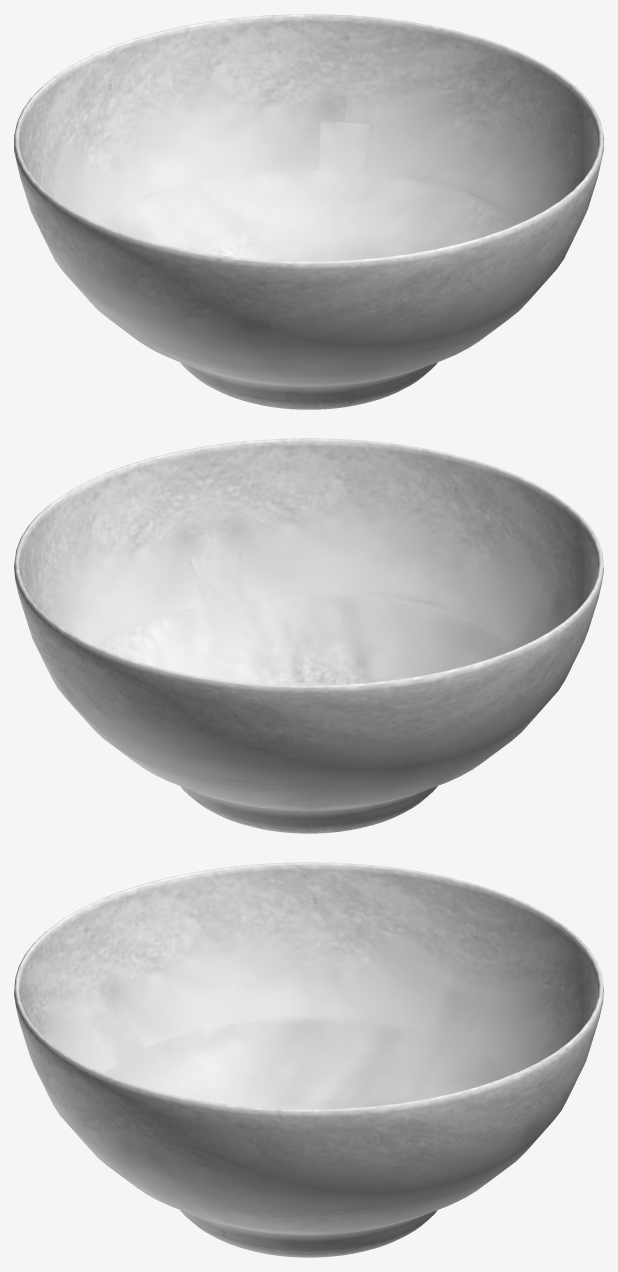
File: bigbowl.fbx
3 renders of one model, top to bottom at view 1: azimuth 30°, elevation 25°; view 2: azimuth 150°, elevation 25°; view 3: azimuth 270°, elevation 25°, orthographic.
Parts seen in each view (by area): view 1: Dishes.034; view 2: Dishes.034; view 3: Dishes.034.
Boxes of the visible parts, box(x1,y1,x2,y2) form: Dishes.034: box(14, 14, 603, 409); Dishes.034: box(14, 438, 603, 833); Dishes.034: box(14, 862, 603, 1257).
Size of the model in its own units: 89.97 by 38.6 by 89.97.
1 material, 1 textured.
